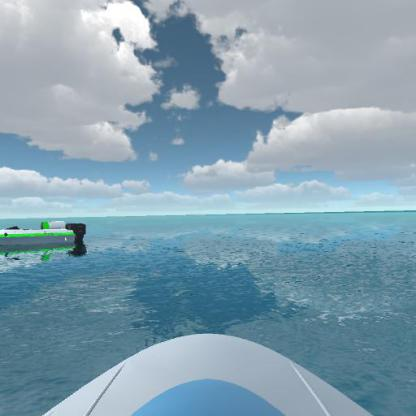usv0: (0, 216, 89, 263)
